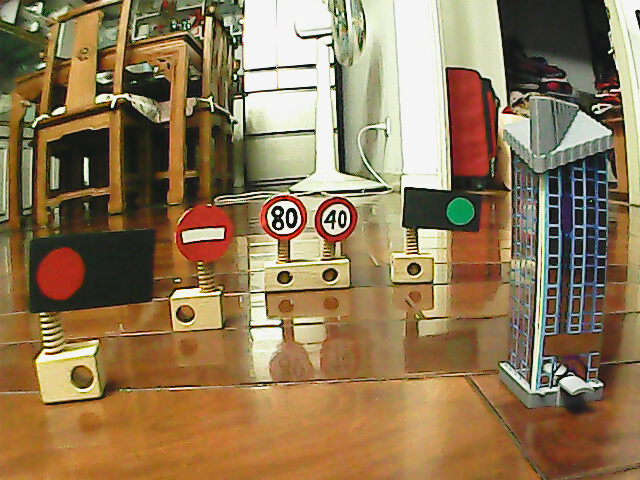Green Traffic Light: (440, 191, 478, 232)
Red Traffic Light: (30, 239, 95, 309)
Speed Limit 40: (313, 194, 362, 243)
Speed Limit 80: (258, 191, 309, 242)
Stop Sign: (172, 201, 237, 265)
